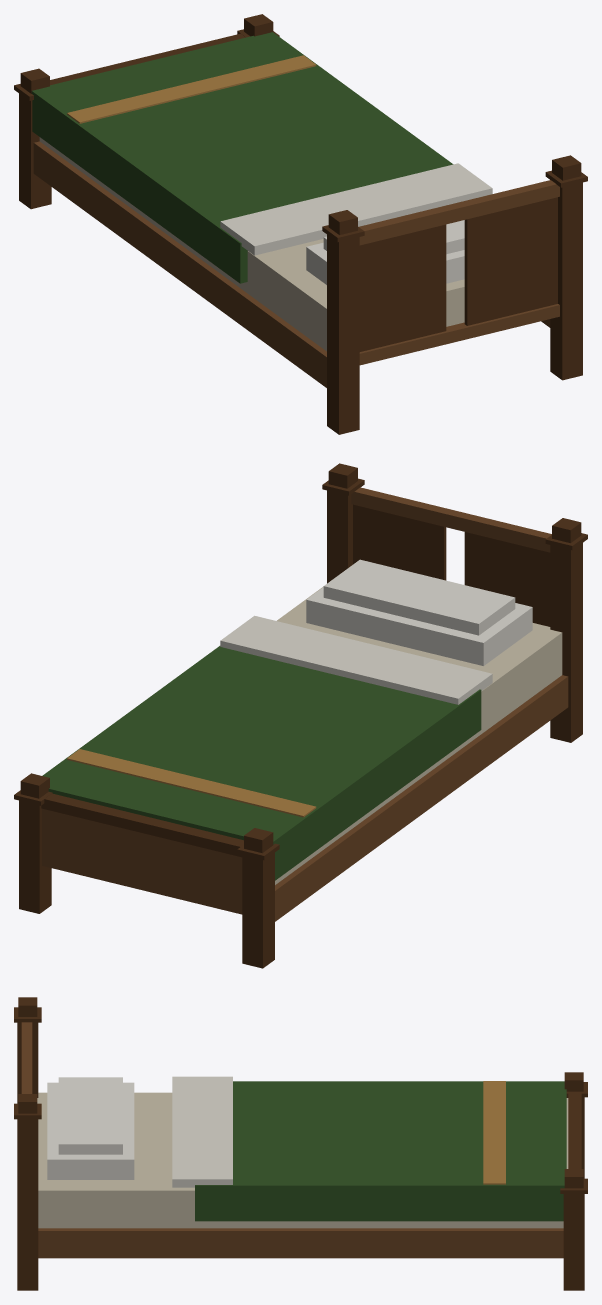
The model's file is bed-c.glb.
The picture shows the model from 3 angles, top to bottom: view 1: azimuth 30°, elevation 25°; view 2: azimuth 150°, elevation 25°; view 3: azimuth 270°, elevation 25°; orthographic projection. The views are drawn at different scales.
Visible parts, largest first — view 1: bed-c; view 2: bed-c; view 3: bed-c.
Part boxes in pixels (box(x1,y1,x2,y2)): bed-c: box(14, 14, 587, 434); bed-c: box(14, 463, 587, 968); bed-c: box(14, 997, 587, 1290).
Size of the model in its own units: 0.3384 by 0.274 by 0.7584.
